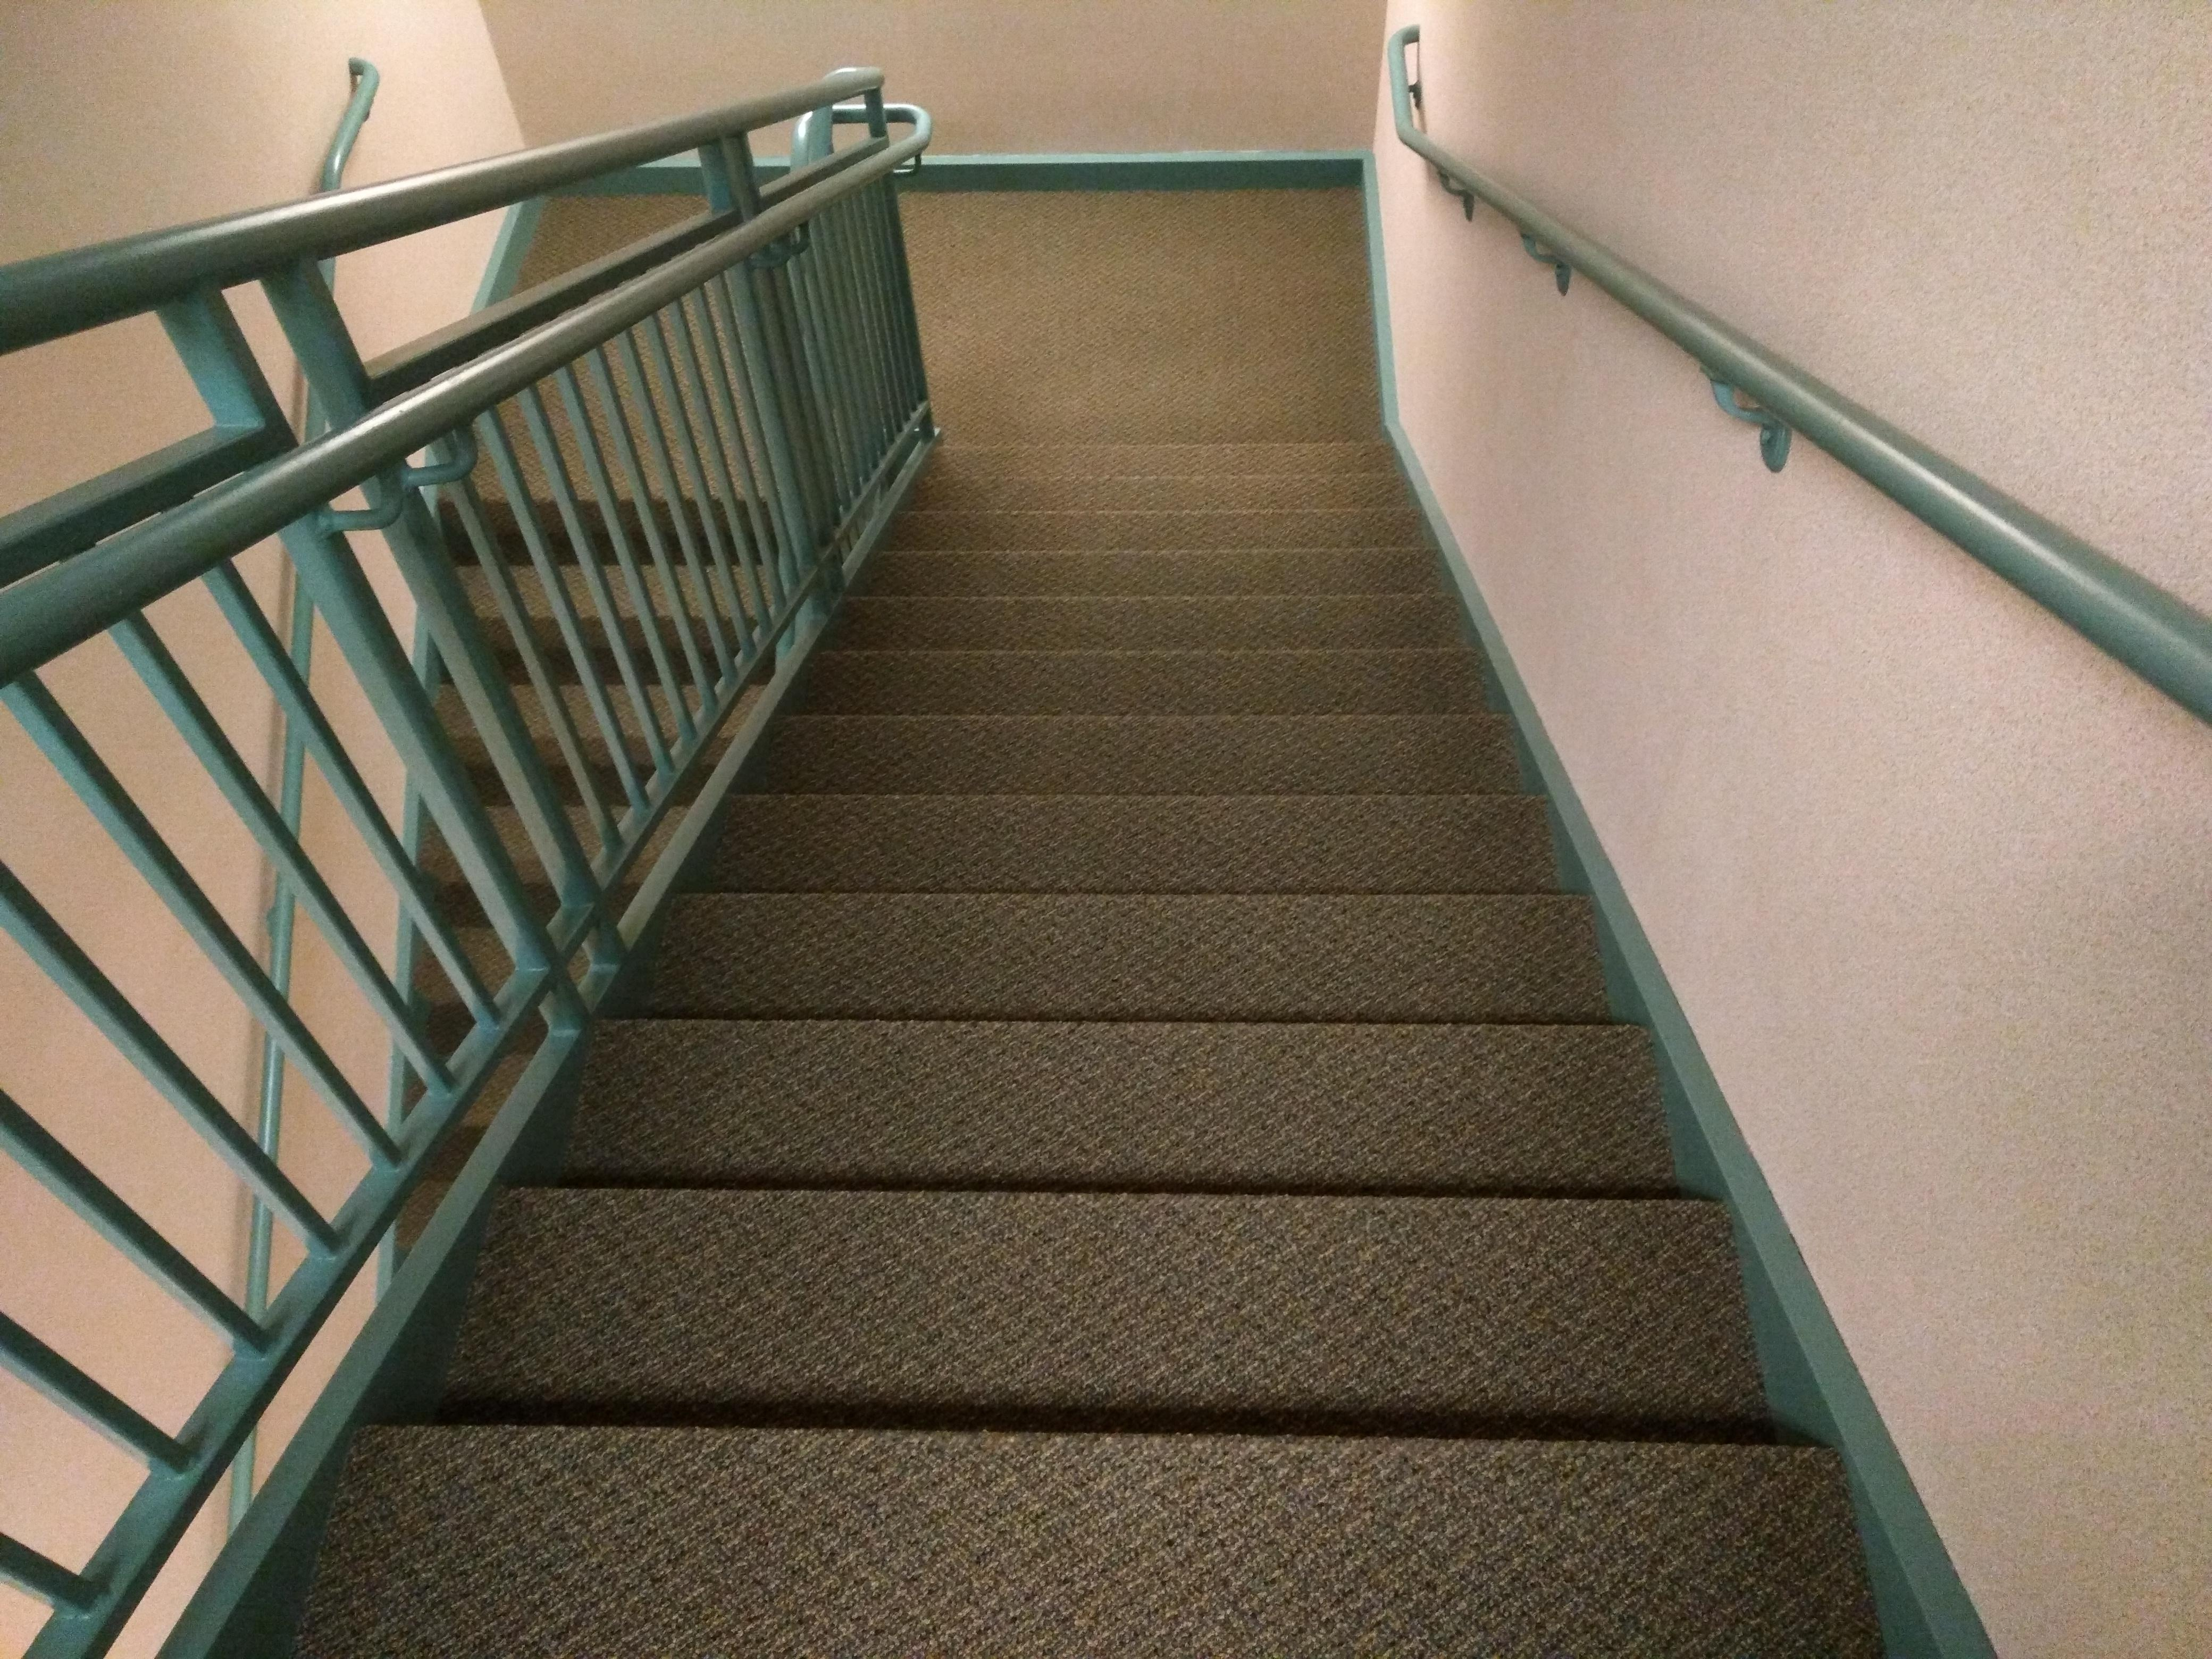stairs_down: (333, 406, 1844, 1506)
